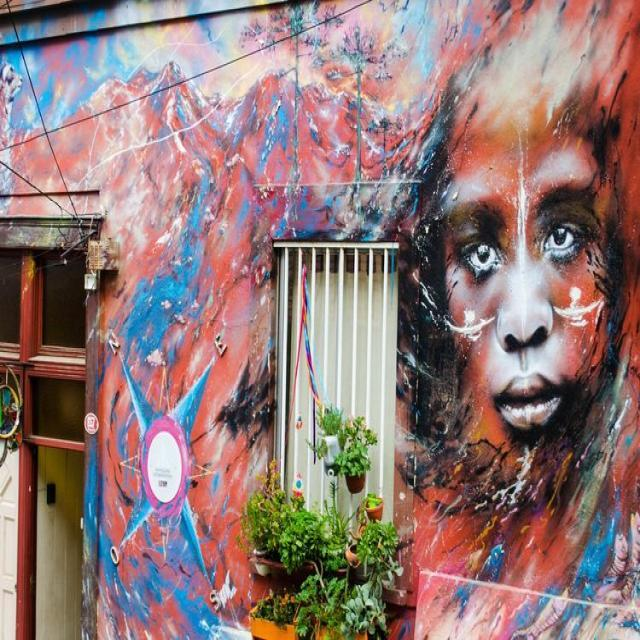-: (420, 59, 630, 502), (107, 332, 226, 614), (0, 59, 23, 160)
